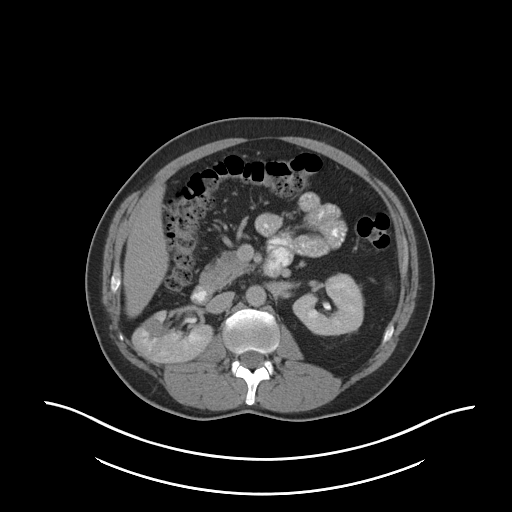Lesion: (139, 319, 174, 339)
